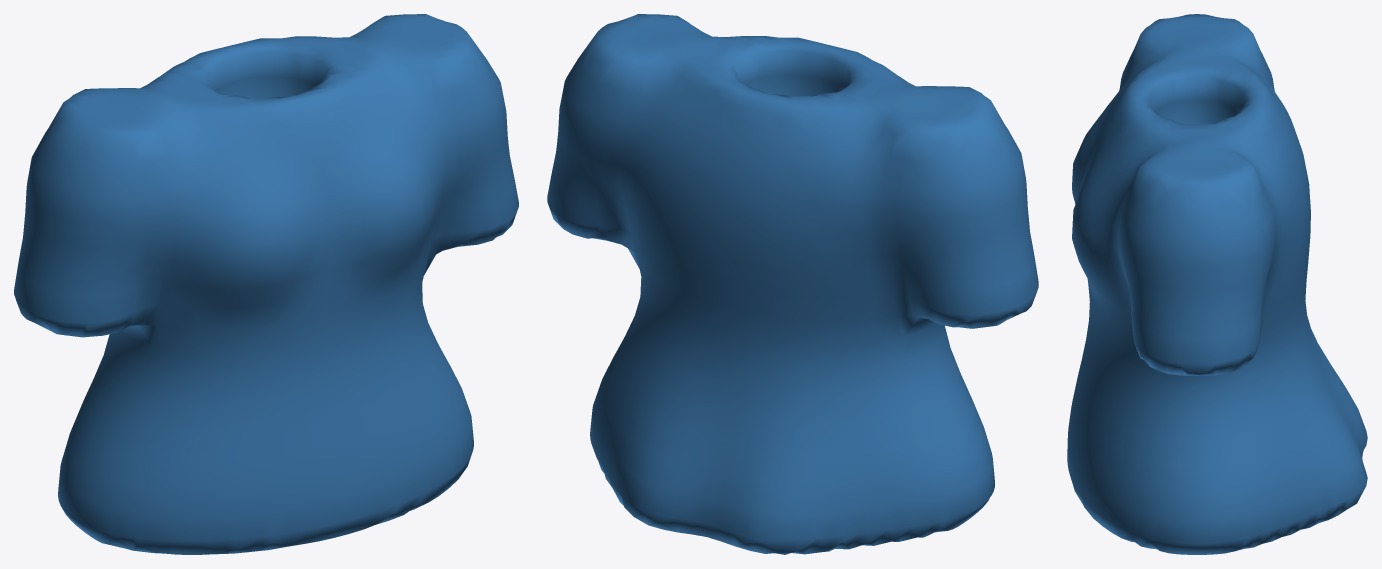
The model's file is female-tshirt-Mavi.glb.
3 views of the same model, side by side, from view 1: azimuth 30°, elevation 25°; view 2: azimuth 150°, elevation 25°; view 3: azimuth 270°, elevation 25° (orthographic). The views are drawn at different scales.
Parts seen in each view (by area): view 1: worn-top; view 2: worn-top; view 3: worn-top.
Part boxes in pixels (x1,y1,x2,y2): worn-top: [14, 14, 518, 554]; worn-top: [547, 14, 1038, 554]; worn-top: [1067, 14, 1367, 554].
Size of the model in its own units: 0.6291 by 0.5232 by 0.3727.
